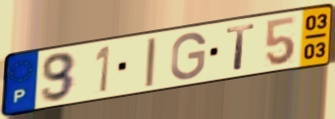1: (94, 43, 112, 94)
5: (265, 14, 298, 67)
9: (39, 50, 79, 104)
G: (168, 31, 209, 82)
I: (143, 35, 158, 89)
T: (224, 22, 258, 73)
